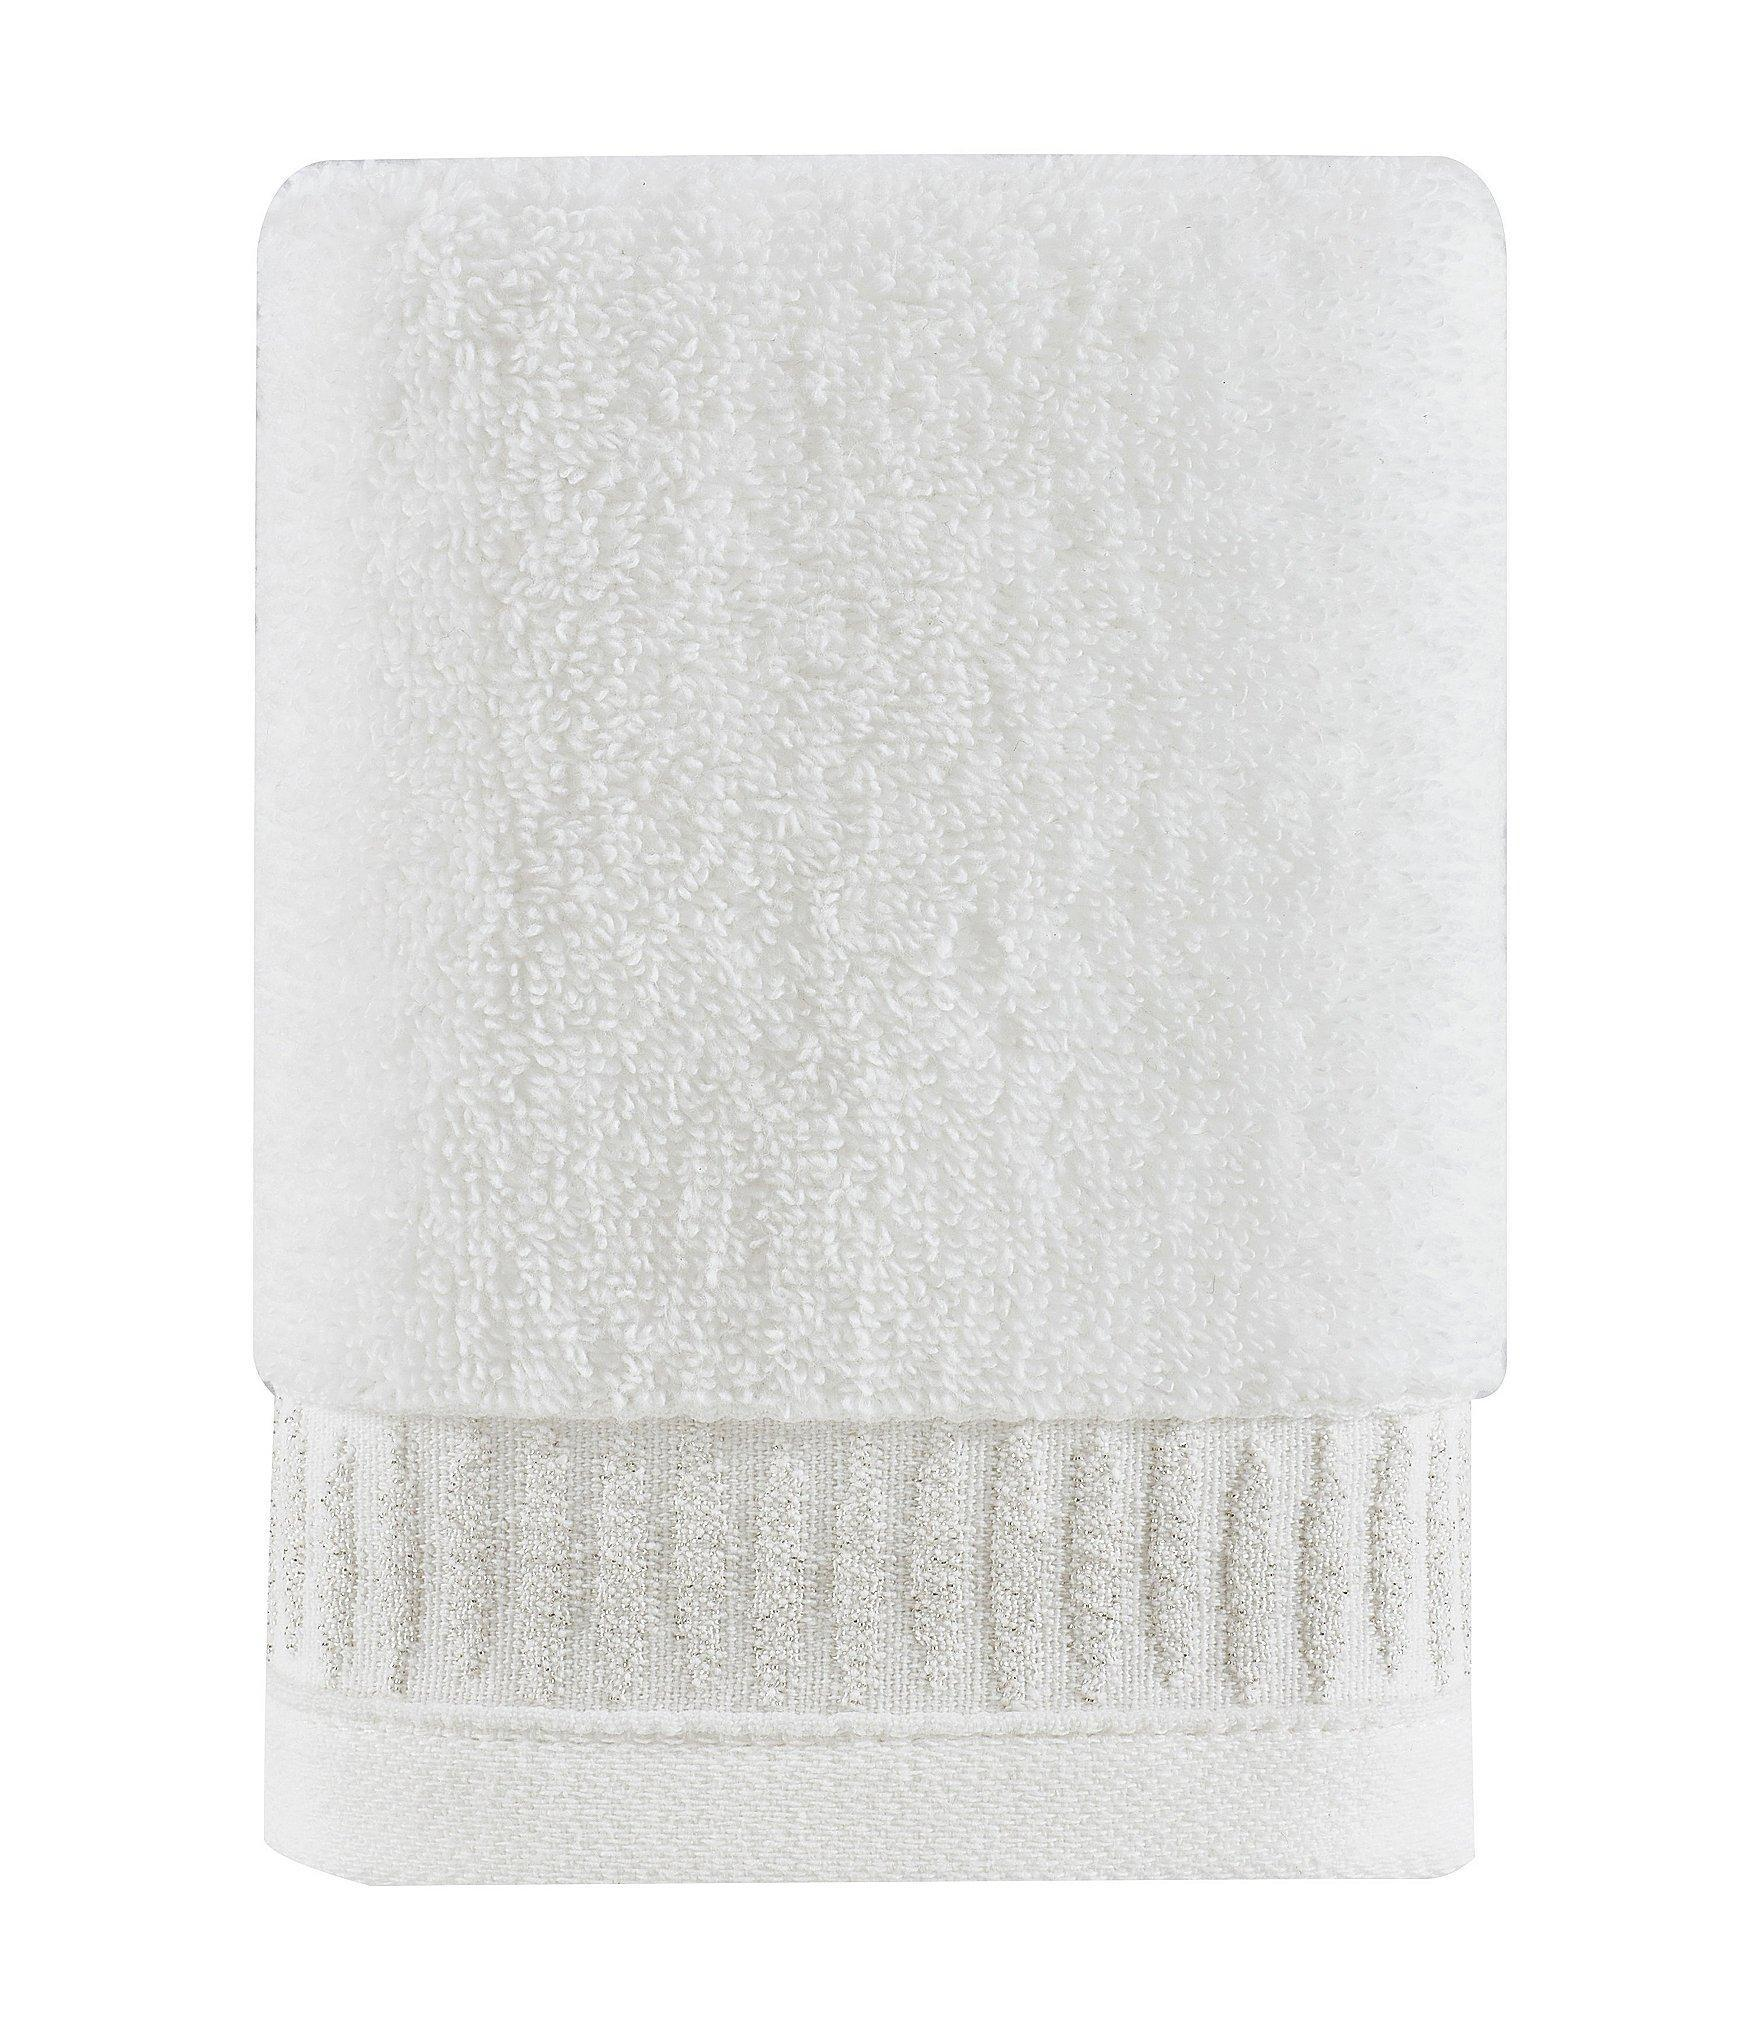towel: (194, 130, 1540, 1875)
